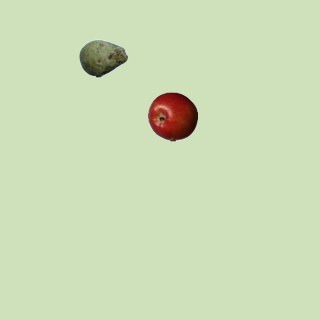Apple Braeburn: (147, 91, 197, 141)
Pear Stone: (78, 33, 128, 83)
